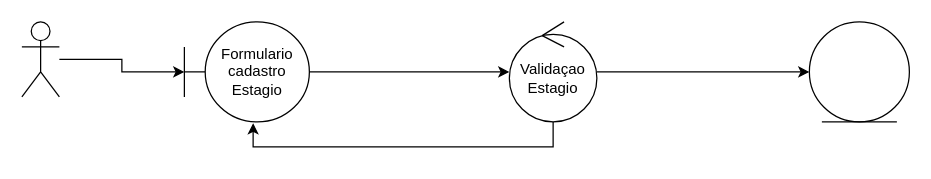
Some shapes in this 931 by 179 pixel diagram are drawn without their labels. Each missing label, with the box of its shape:
Aluno: (21, 21, 59, 97)
Estagio: (808, 21, 909, 122)
